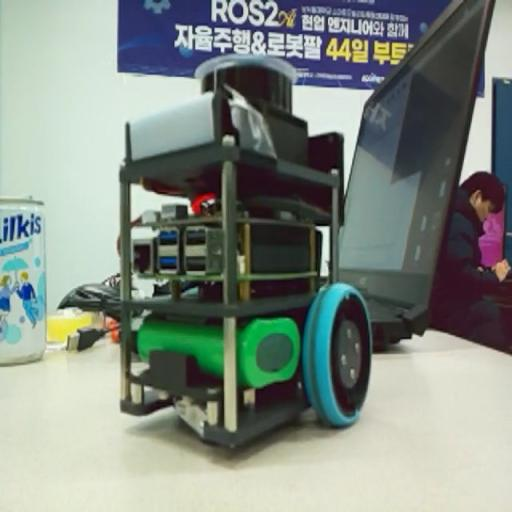pinky_63: (107, 50, 378, 451)
